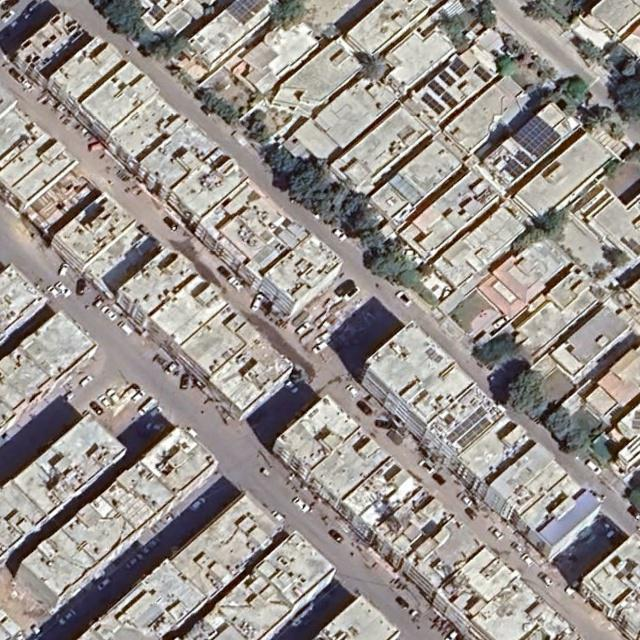solar panel: (513, 115, 562, 158), (448, 405, 487, 443), (456, 417, 492, 448), (225, 0, 269, 25), (420, 92, 445, 116), (503, 159, 527, 179), (450, 56, 470, 78), (473, 66, 494, 83), (515, 150, 534, 167), (441, 92, 458, 109), (428, 80, 446, 96), (439, 71, 457, 87)
